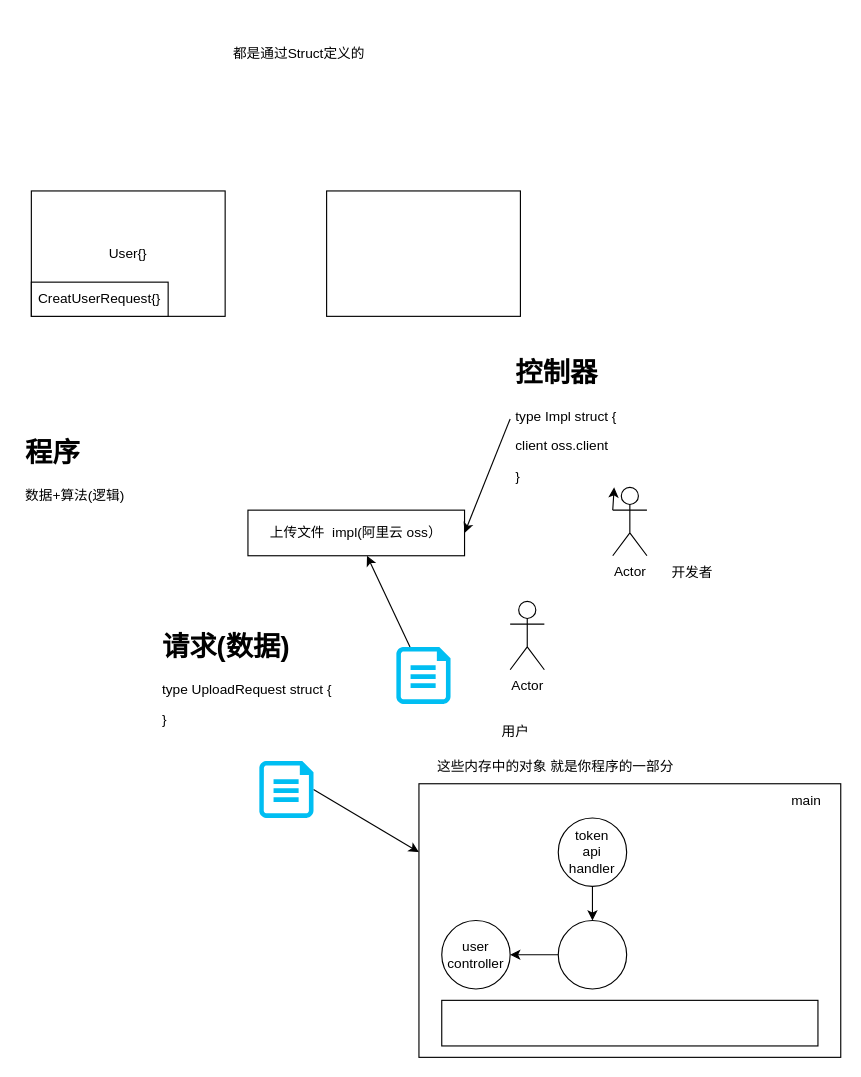
This 861x1077 diagram has some shape labels left out. Each missing label, with the box of its shape:
config: (441, 999, 818, 1046)
Impl UserService接口的实现类: (325, 190, 520, 316)
token controller: (557, 919, 627, 989)
